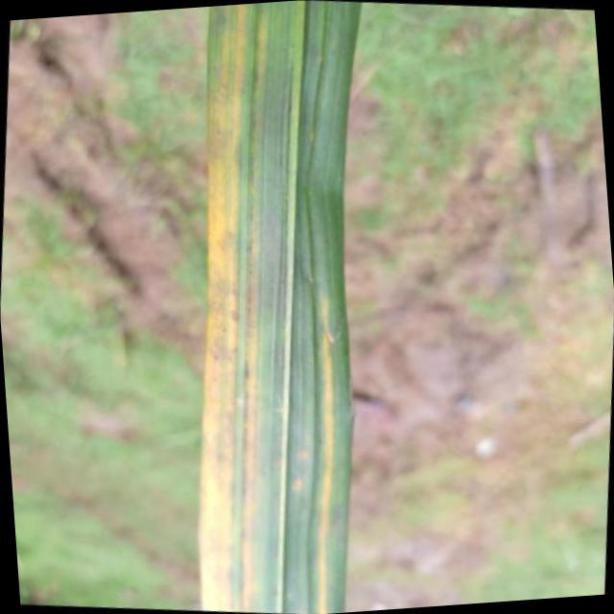Megnesium: (200, 0, 361, 614)
